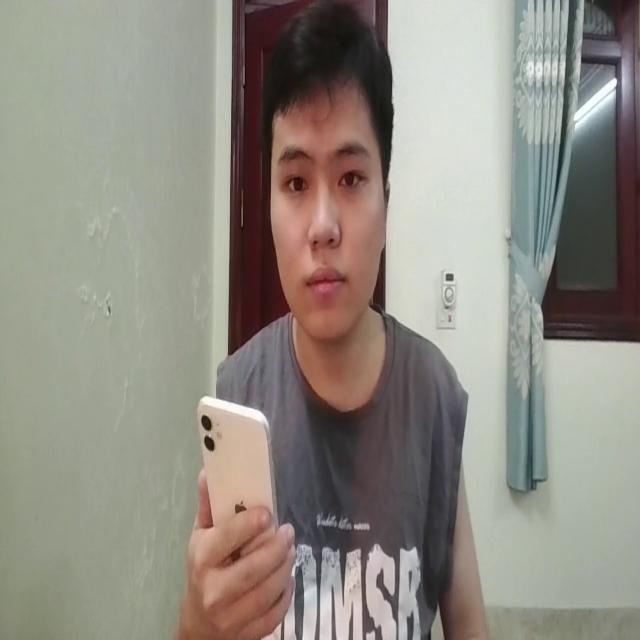phone: (197, 385, 279, 554)
student: (172, 0, 491, 640)
